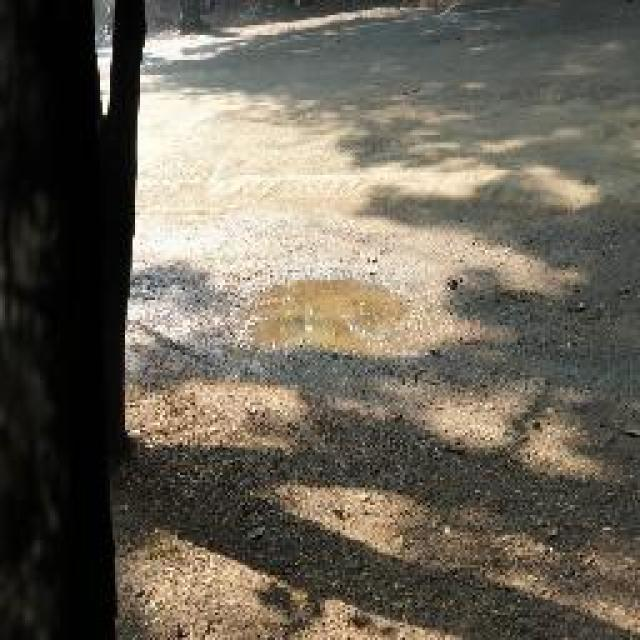stagnation: (239, 260, 427, 368)
